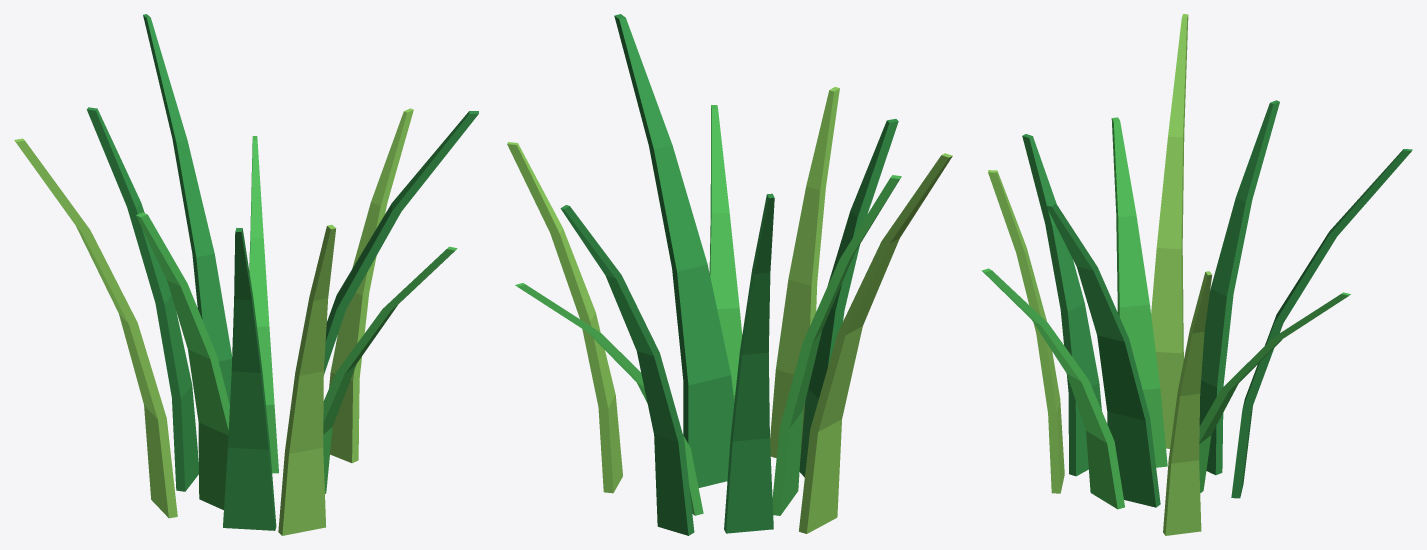
Rendered from FTF_Nature_Grass_Clump.glb.
3 renders of one model, left to right at view 1: azimuth 30°, elevation 25°; view 2: azimuth 150°, elevation 25°; view 3: azimuth 270°, elevation 25°, orthographic. The views are drawn at different scales.
Parts seen in each view (by area): view 1: Grass_Blade_06, Grass_Blade_05, Grass_Blade_07, Grass_Blade_09, Grass_Blade_00, Grass_Blade_08, Grass_Blade_02, Grass_Blade_03, Grass_Blade_01, Grass_Blade_04; view 2: Grass_Blade_03, Grass_Blade_09, Grass_Blade_08, Grass_Blade_00, Grass_Blade_05, Grass_Blade_02, Grass_Blade_07, Grass_Blade_04, Grass_Blade_06, Grass_Blade_01; view 3: Grass_Blade_03, Grass_Blade_08, Grass_Blade_07, Grass_Blade_09, Grass_Blade_02, Grass_Blade_06, Grass_Blade_04, Grass_Blade_05, Grass_Blade_00, Grass_Blade_01.
Part boxes in pixels (x1=…): Grass_Blade_06: x1=223, y1=227, x2=276, y2=530; Grass_Blade_05: x1=278, y1=224, x2=336, y2=535; Grass_Blade_07: x1=136, y1=212, x2=229, y2=510; Grass_Blade_09: x1=86, y1=107, x2=198, y2=491; Grass_Blade_00: x1=143, y1=14, x2=232, y2=404; Grass_Blade_08: x1=14, y1=138, x2=177, y2=518; Grass_Blade_02: x1=329, y1=108, x2=413, y2=463; Grass_Blade_03: x1=324, y1=111, x2=478, y2=374; Grass_Blade_01: x1=249, y1=136, x2=278, y2=473; Grass_Blade_04: x1=323, y1=246, x2=457, y2=493; Grass_Blade_03: x1=614, y1=14, x2=734, y2=487; Grass_Blade_09: x1=724, y1=193, x2=774, y2=533; Grass_Blade_08: x1=799, y1=153, x2=952, y2=533; Grass_Blade_00: x1=560, y1=205, x2=694, y2=535; Grass_Blade_05: x1=770, y1=87, x2=839, y2=461; Grass_Blade_02: x1=507, y1=142, x2=622, y2=493; Grass_Blade_07: x1=772, y1=175, x2=901, y2=515; Grass_Blade_04: x1=709, y1=105, x2=742, y2=401; Grass_Blade_06: x1=799, y1=119, x2=898, y2=477; Grass_Blade_01: x1=515, y1=283, x2=703, y2=515; Grass_Blade_03: x1=1046, y1=202, x2=1160, y2=507; Grass_Blade_08: x1=1151, y1=14, x2=1188, y2=448; Grass_Blade_07: x1=1111, y1=117, x2=1167, y2=467; Grass_Blade_09: x1=1199, y1=100, x2=1279, y2=475; Grass_Blade_02: x1=1163, y1=271, x2=1211, y2=535; Grass_Blade_06: x1=1022, y1=134, x2=1101, y2=476; Grass_Blade_04: x1=981, y1=268, x2=1124, y2=509; Grass_Blade_05: x1=988, y1=170, x2=1064, y2=493; Grass_Blade_00: x1=1231, y1=149, x2=1412, y2=498; Grass_Blade_01: x1=1199, y1=292, x2=1350, y2=492.
Bounding box in the file's own units: 0.3966 × 0.3622 × 0.3833.
